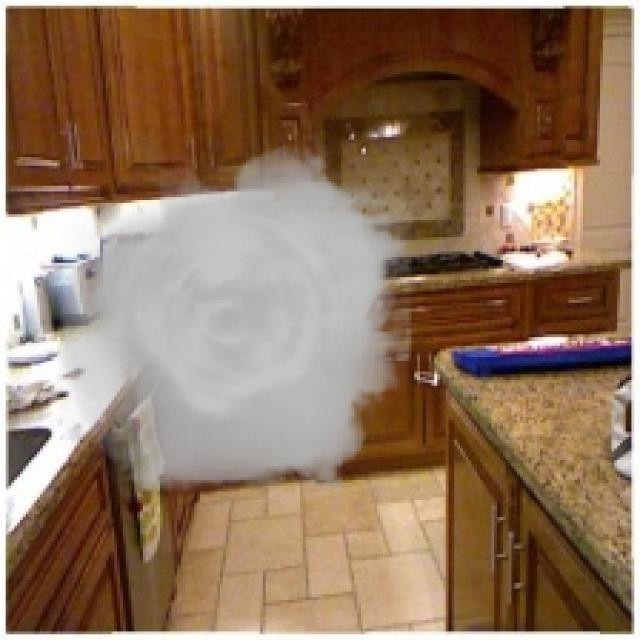Smoke: (57, 134, 412, 512)
